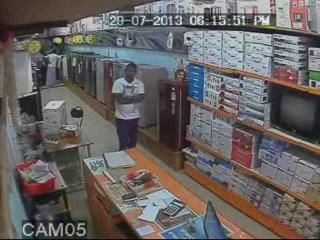Normal: (269, 85, 320, 148), (111, 62, 145, 151)
